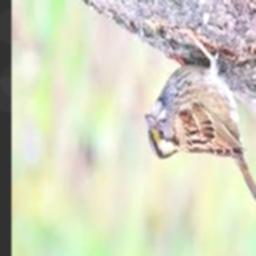Sparrow: (146, 28, 256, 230)
